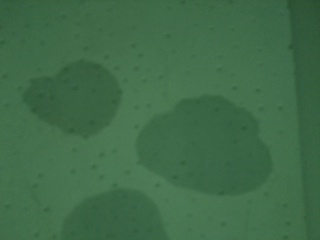Water_detected: (145, 104, 233, 184), (36, 72, 109, 133)
